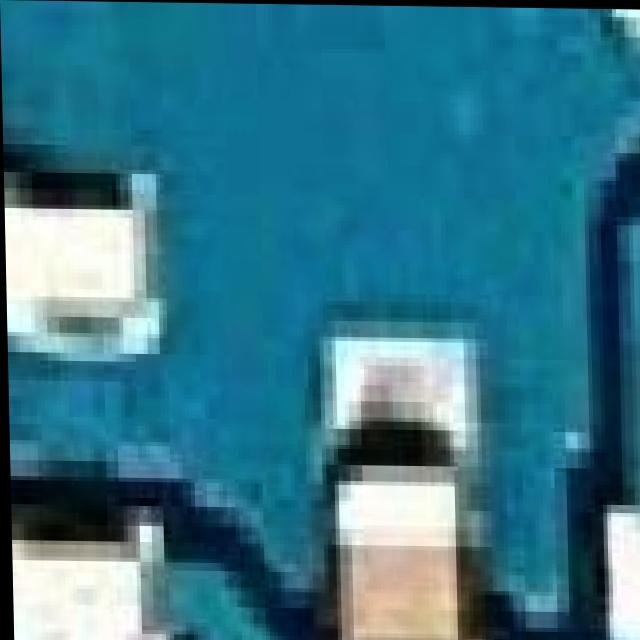IC: (1, 76, 187, 640)
capacitor: (319, 412, 463, 640)
transistor: (605, 303, 640, 640)
